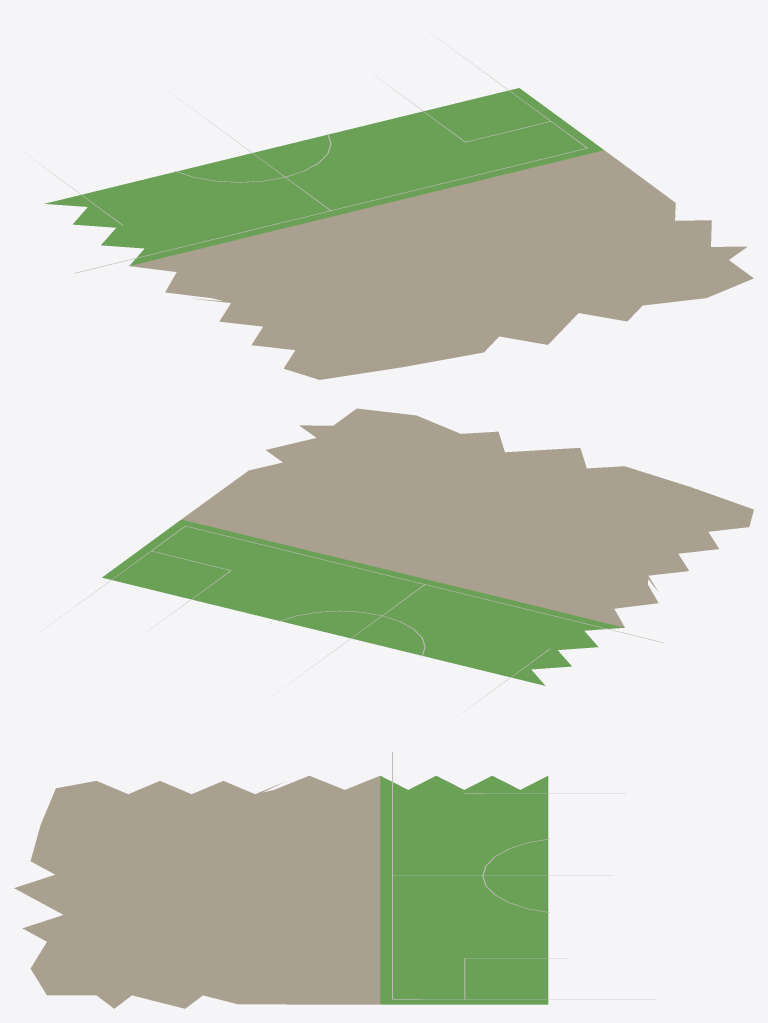
The picture shows the model from 3 angles, top to bottom: view 1: azimuth 30°, elevation 25°; view 2: azimuth 150°, elevation 25°; view 3: azimuth 270°, elevation 25°; orthographic projection. The views are drawn at different scales.
Parts seen in each view (by area): view 1: estructura_terreno, estructura_cesped; view 2: estructura_terreno, estructura_cesped; view 3: estructura_terreno, estructura_cesped.
Part boxes in pixels (x1,y1,x2,y2): estructura_terreno: (29,32,753,379); estructura_cesped: (44,88,603,265); estructura_terreno: (40,408,753,710); estructura_cesped: (102,519,624,685); estructura_terreno: (14,752,656,1008); estructura_cesped: (380,775,548,1004).
Size of the model in its own units: 59.77 by 0.012 by 72.87.
